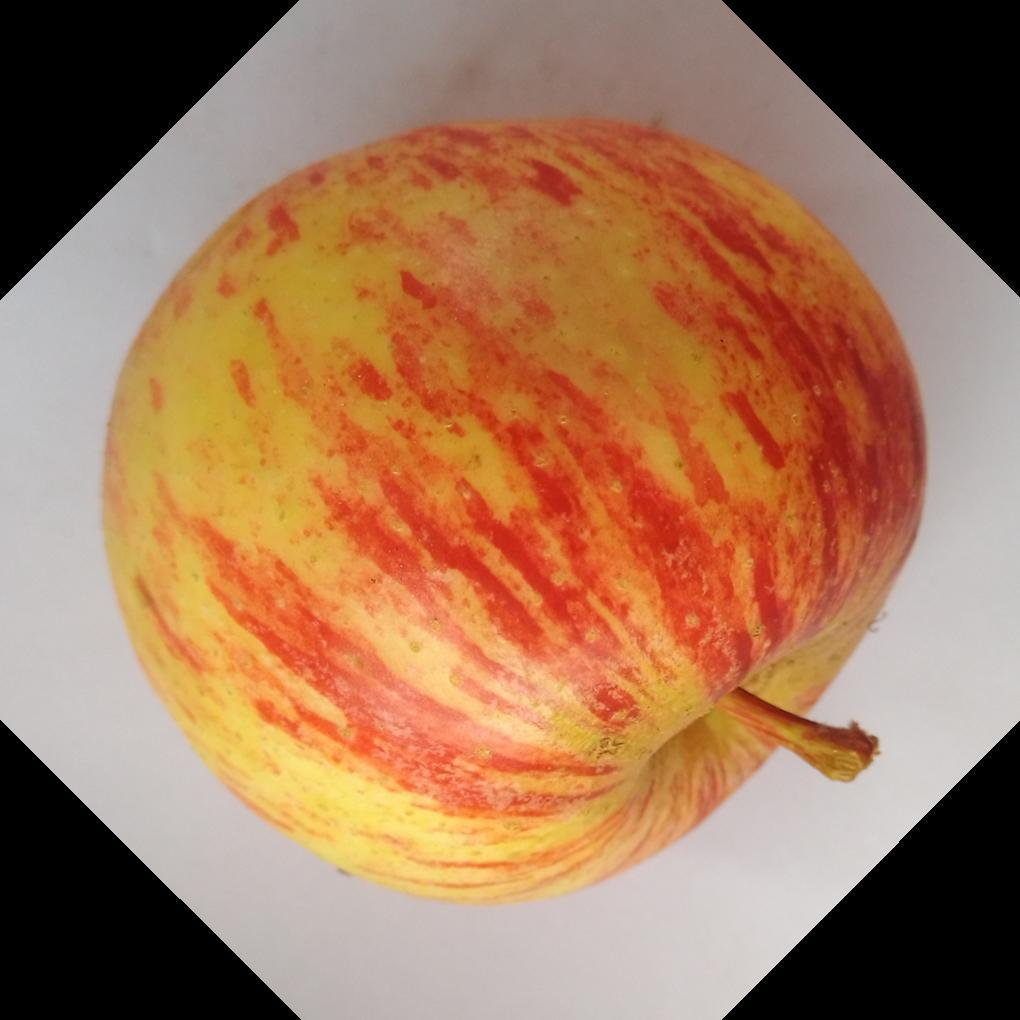FreshGuava: (96, 116, 928, 911)
